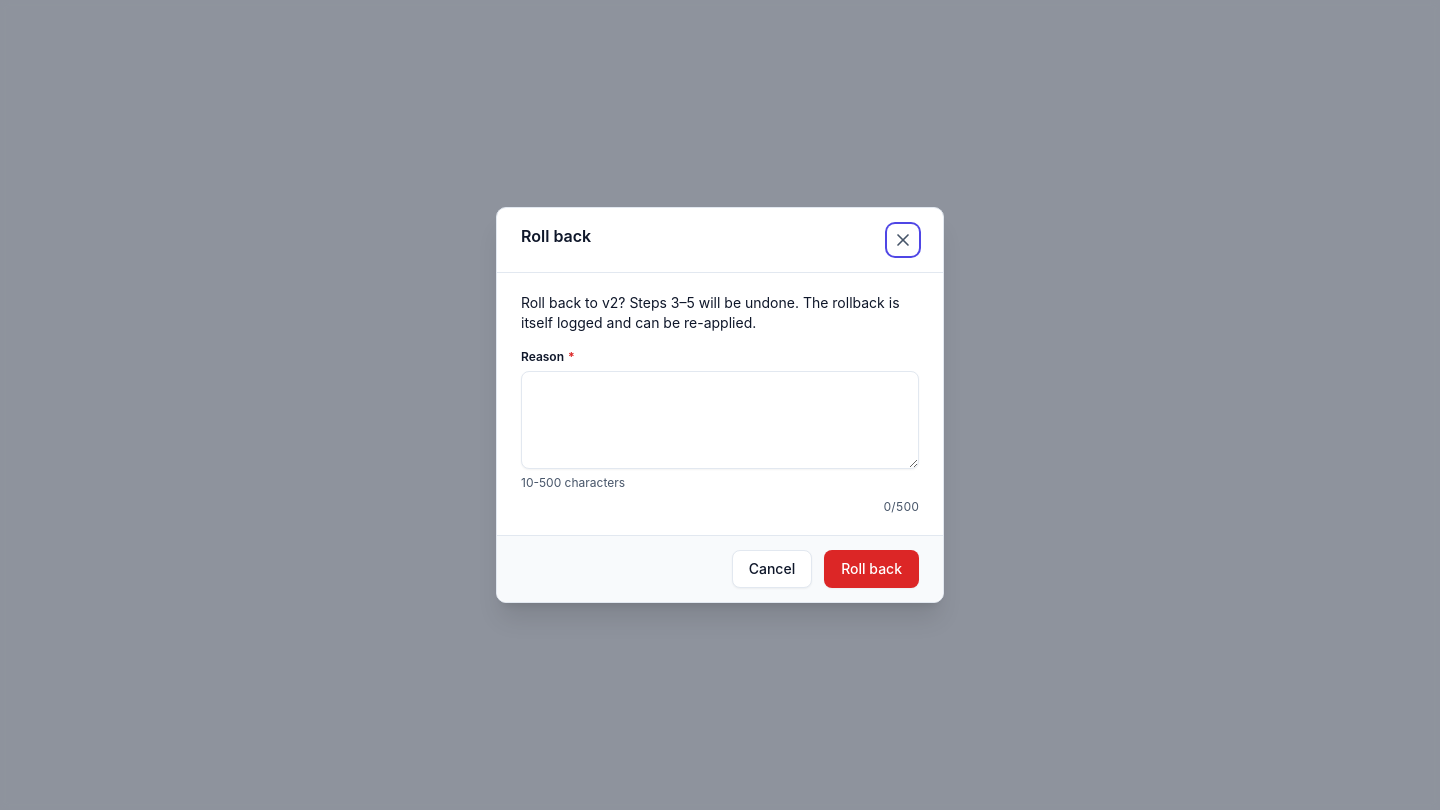
Test case: RollbackModal reason validation › clears the inline error as soon as the reason changes
Click the button "Roll back".
click(872, 569)  # box [824,550,919,588]
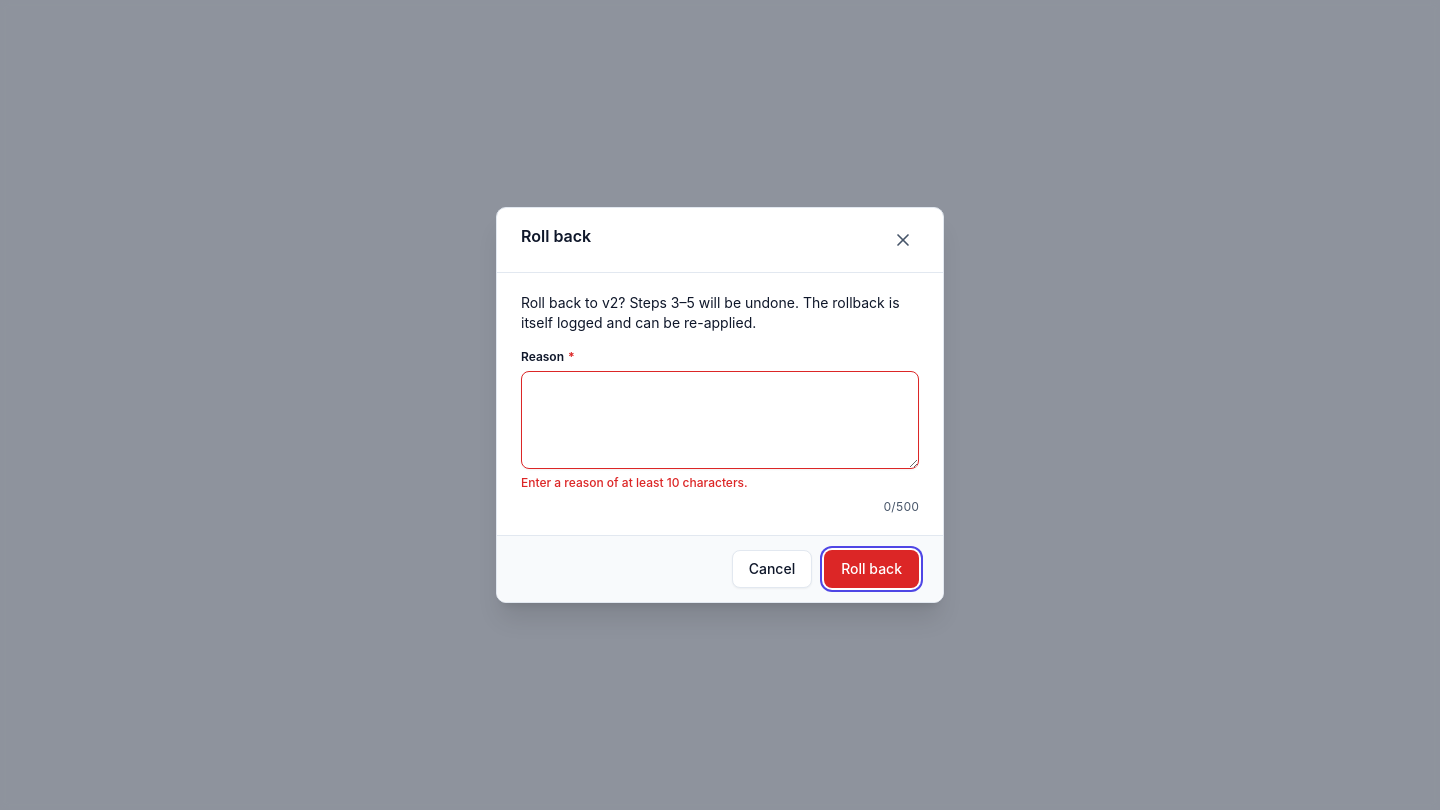
Now the message "Enter a reason of at least 10 characters." is shown, box [521,475,748,490]
Type "a" into the text box labelled "Reason*".
click(720, 420); type("a")  # box [521,371,919,469]
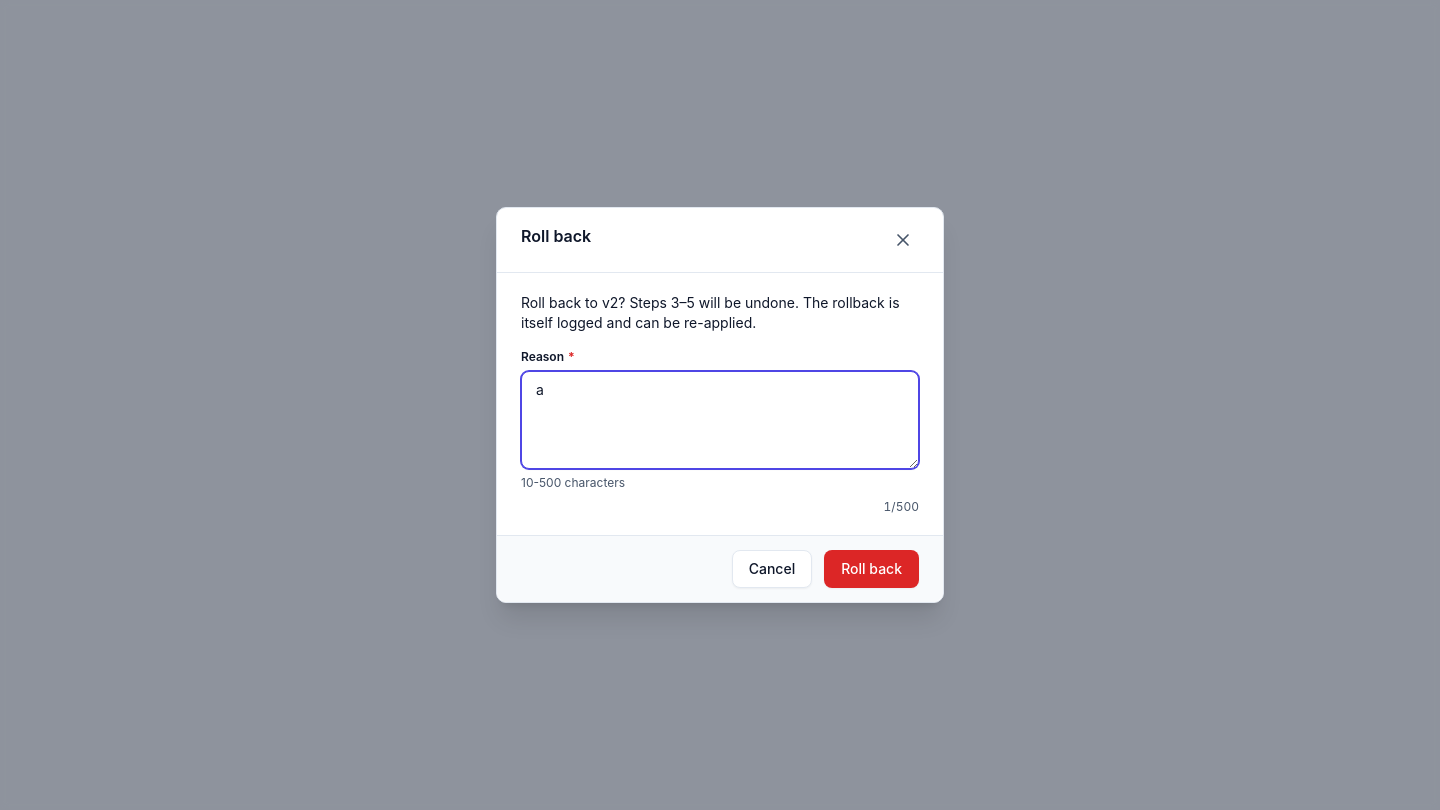
Now the message "Enter a reason of at least 10 characters." is gone
